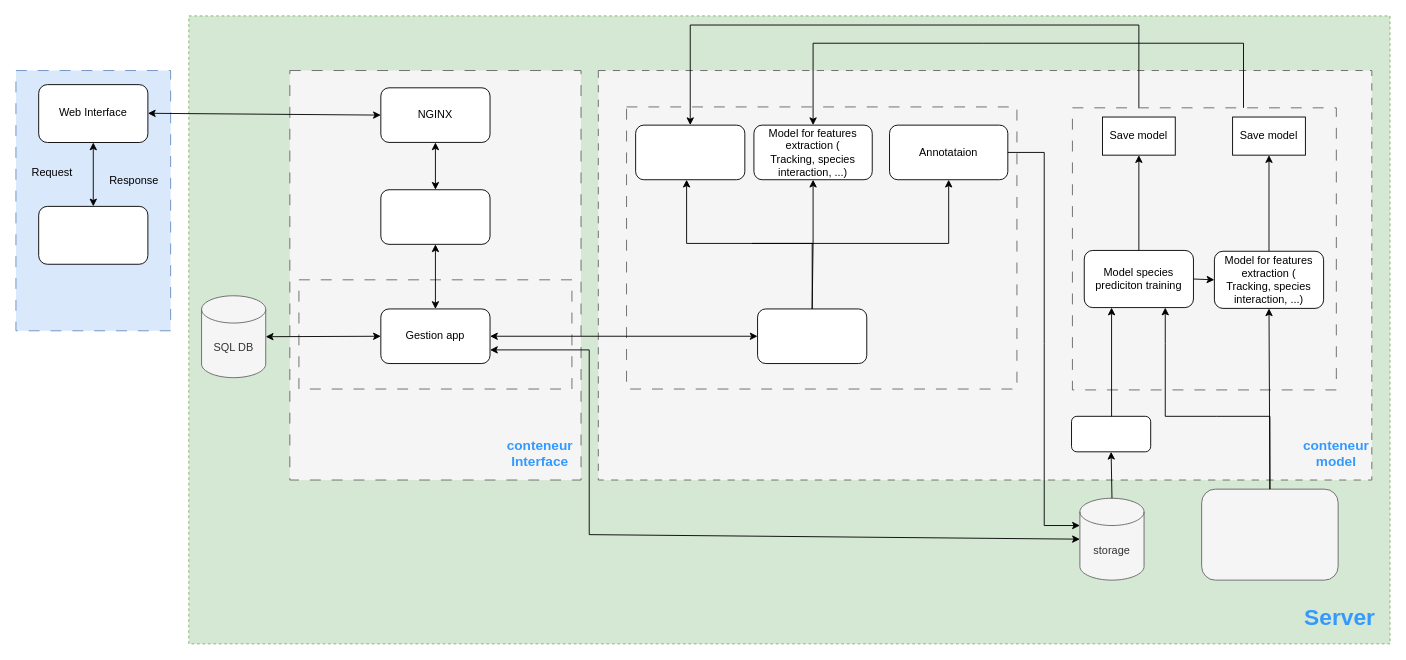
Image size: 1406x660. Some labels were removed from this diagram. The shapes that lost their labels are listed below. From the top down, each one's centre as x and y in pixels, then its label:
the point at 690,152: Model species prediction
the point at 93,234: Users
the point at 435,216: uWSGI
the point at 812,336: APIs
the point at 1111,433: Pre Processing
the point at 1269,534: Calcul Ressources
